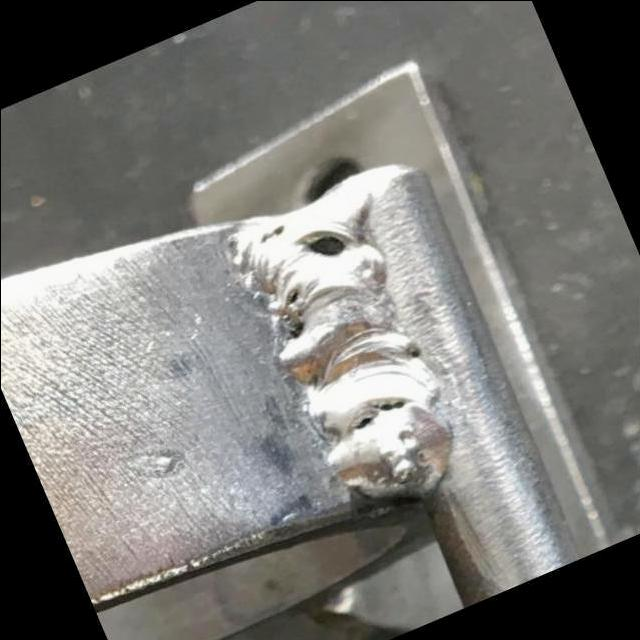defect: (288, 219, 357, 261), (348, 394, 410, 434), (280, 281, 317, 339), (406, 346, 424, 361)
